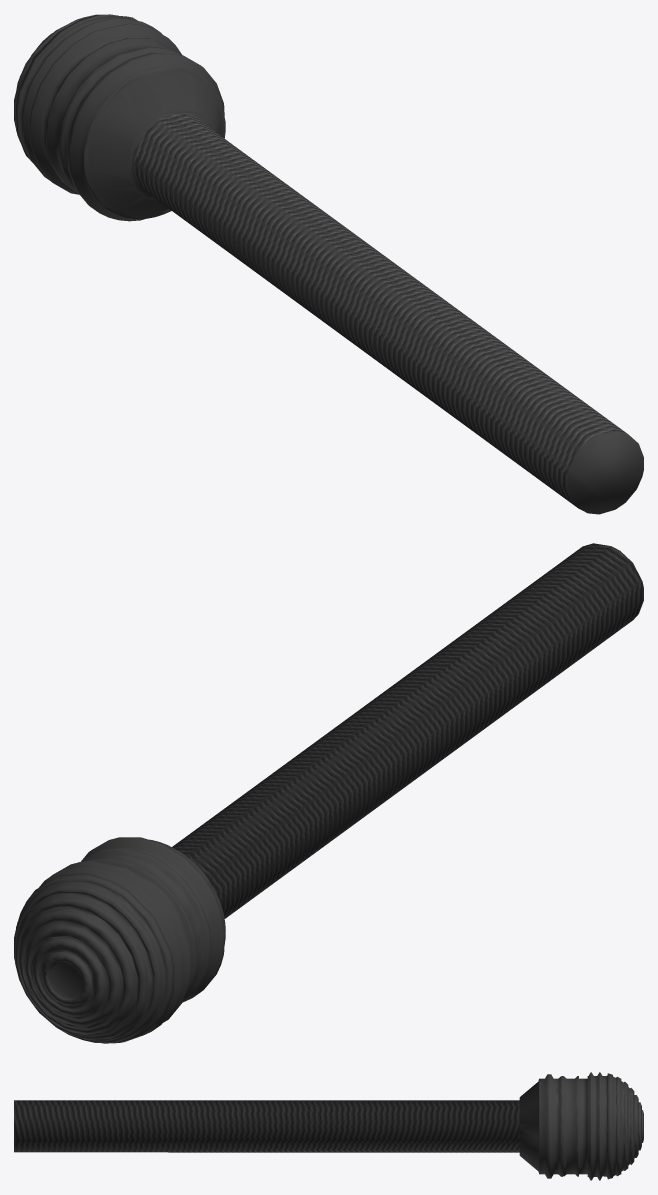
The model's file is anymal_foot.obj.
3 renders of one model, top to bottom at view 1: azimuth 30°, elevation 25°; view 2: azimuth 150°, elevation 25°; view 3: azimuth 270°, elevation 25°, orthographic. The views are drawn at different scales.
Size of the model in its own units: 0.0619 by 0.0619 by 0.3613.
1 material, 1 textured.
